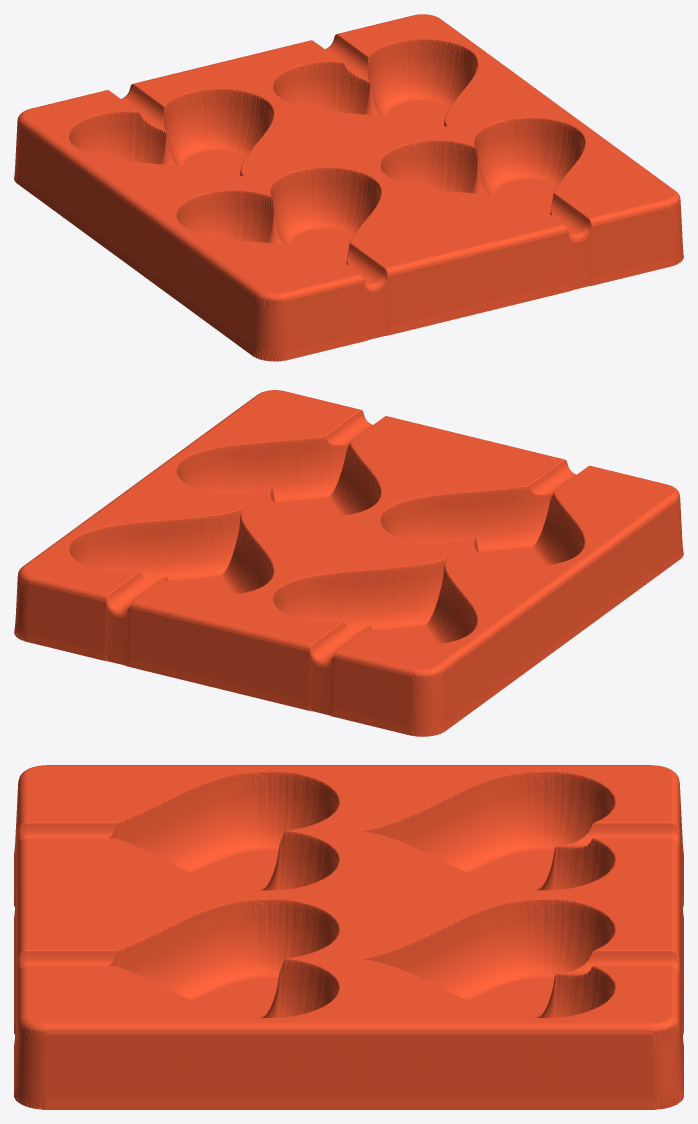
The model's file is mold.glb.
The picture shows the model from 3 angles, top to bottom: view 1: azimuth 30°, elevation 25°; view 2: azimuth 150°, elevation 25°; view 3: azimuth 270°, elevation 25°; orthographic projection. The views are drawn at different scales.
Visible parts, largest first — view 1: geometry_0; view 2: geometry_0; view 3: geometry_0.
Part boxes in pixels (left/top/right/bottom): geometry_0: left=14, top=14, right=683, bottom=361; geometry_0: left=14, top=390, right=683, bottom=736; geometry_0: left=14, top=765, right=683, bottom=1109.
Bounding box in the file's own units: 0.1726 × 0.0245 × 0.1824.
